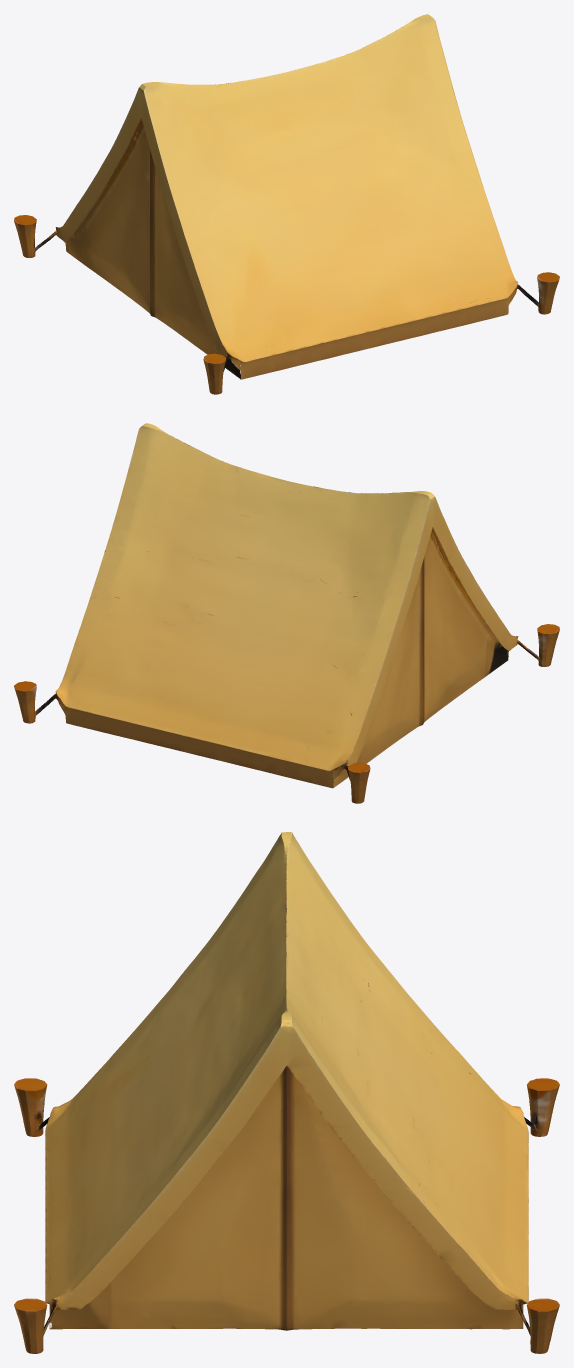
Rendered from base_basic_pbr.fbx.
3 views of the same model, one above another, from view 1: azimuth 30°, elevation 25°; view 2: azimuth 150°, elevation 25°; view 3: azimuth 270°, elevation 25° (orthographic). The views are drawn at different scales.
Parts seen in each view (by area): view 1: model; view 2: model; view 3: model.
Boxes of the visible parts, left/top/right/bottom form: model: left=14, top=14, right=559, bottom=394; model: left=14, top=423, right=559, bottom=803; model: left=14, top=832, right=559, bottom=1353.
Bounding box in the file's own units: 190 × 120 × 188.
1 material, 1 textured.
